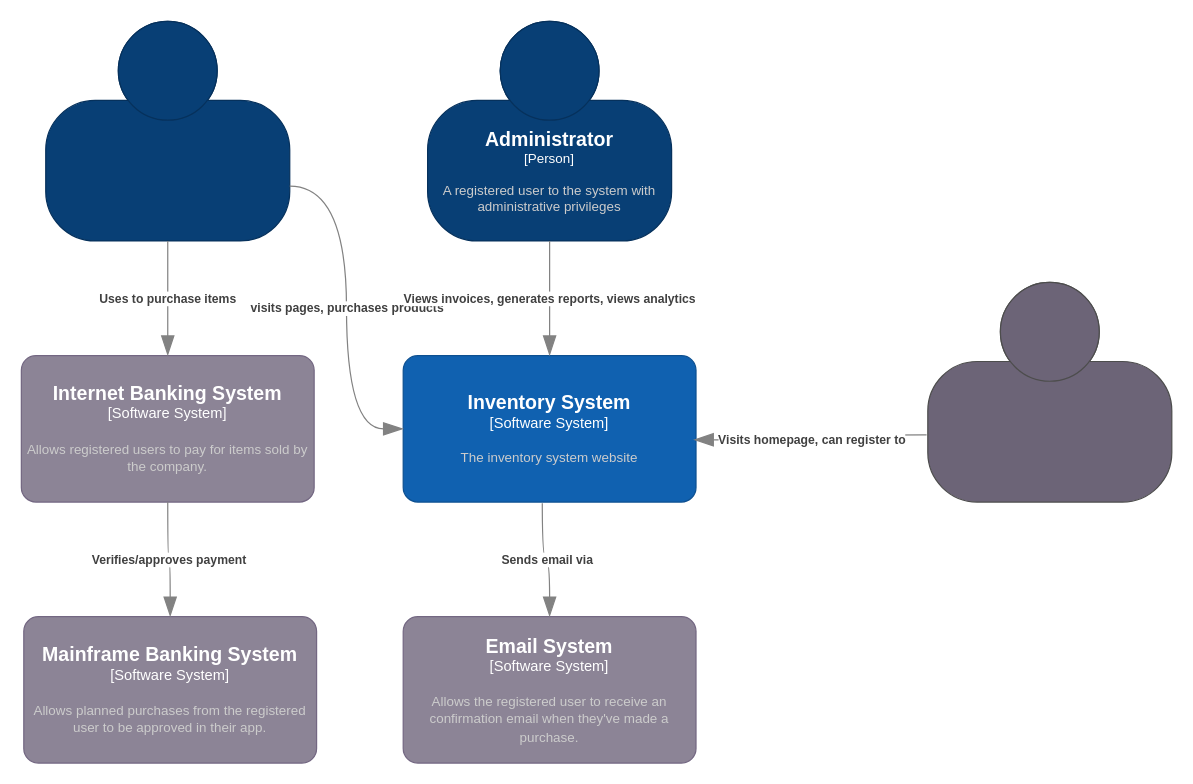
The diagram is 1193 pixels wide and 784 high, and some of its shapes have lost their labels. The shapes that lost their labels are listed below. From the top down, each one's centre as x and y in pixels, then its label:
the point at 167,130: Registered User [Person] A user who is registered to the system
the point at 1049,391: Unregistered Guest [Person] A guest who browses the system homepage
